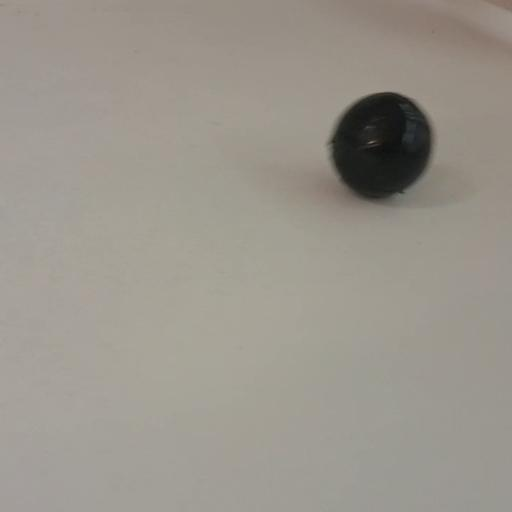dead: (326, 89, 436, 200)
